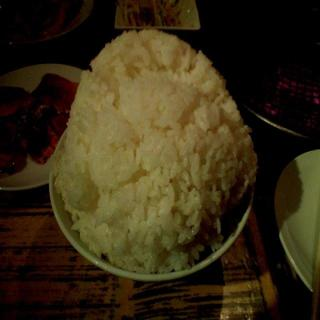Nasi: (50, 27, 260, 275)
